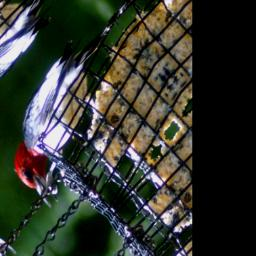Woodpecker: (0, 2, 160, 215)
